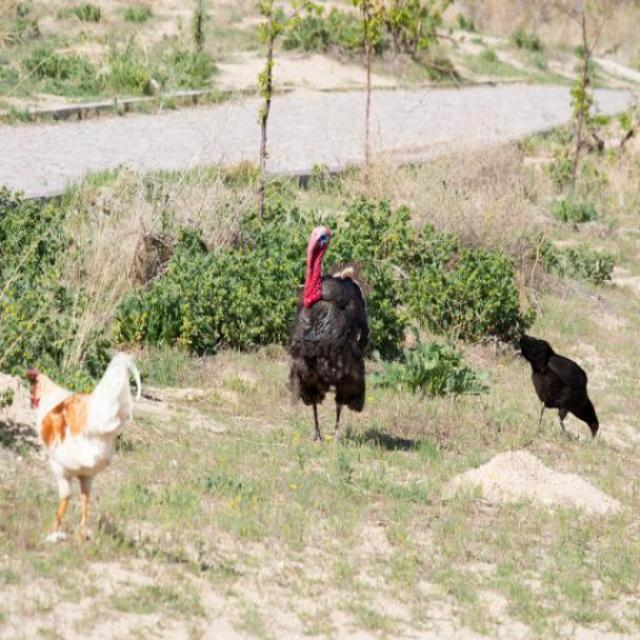Chicken: (23, 337, 139, 538), (507, 329, 601, 446)
